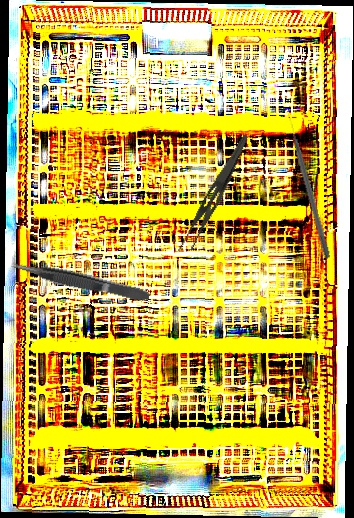Dressing Forceps: (175, 128, 250, 259)
Pusher: (285, 112, 333, 260)
Tissue Forceps: (9, 255, 152, 307)
